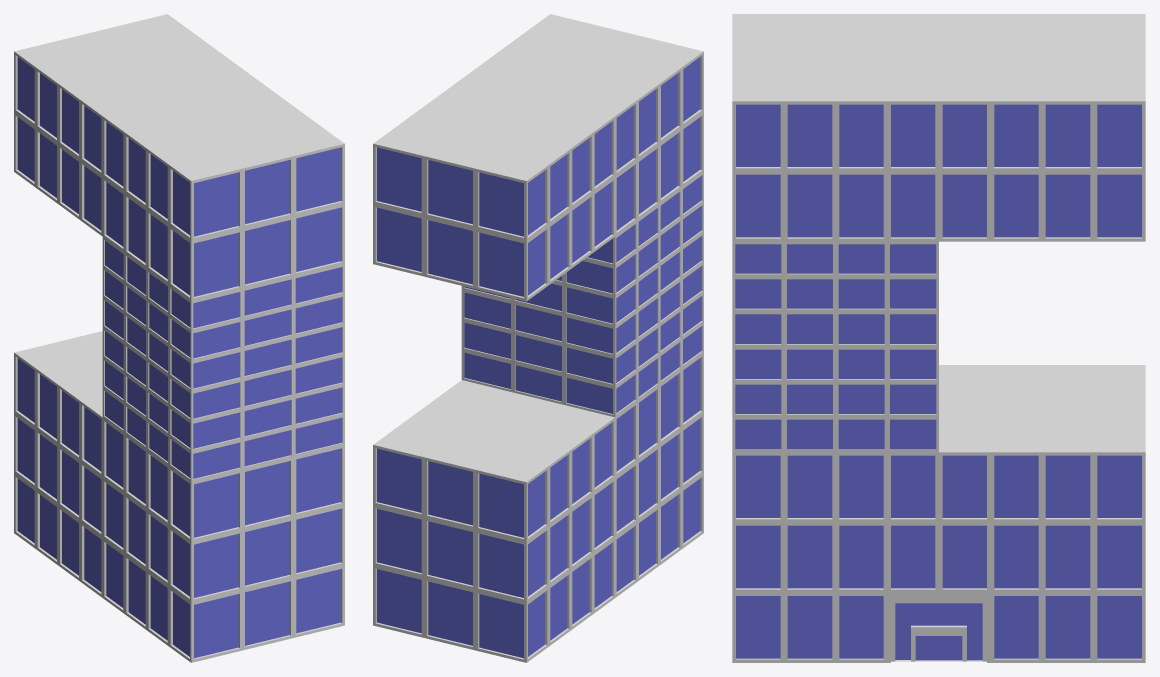
The model's file is building3.fbx.
3 renders of one model, left to right at view 1: azimuth 30°, elevation 25°; view 2: azimuth 150°, elevation 25°; view 3: azimuth 270°, elevation 25°, orthographic. The views are drawn at different scales.
Visible parts, largest first — view 1: Cube.001; view 2: Cube.001; view 3: Cube.001.
Part boxes in pixels (box(x1,y1,x2,y2)): Cube.001: box(14, 14, 344, 662); Cube.001: box(373, 14, 703, 662); Cube.001: box(732, 14, 1145, 662).
Bounding box in the file's own units: 8 × 24 × 16.
